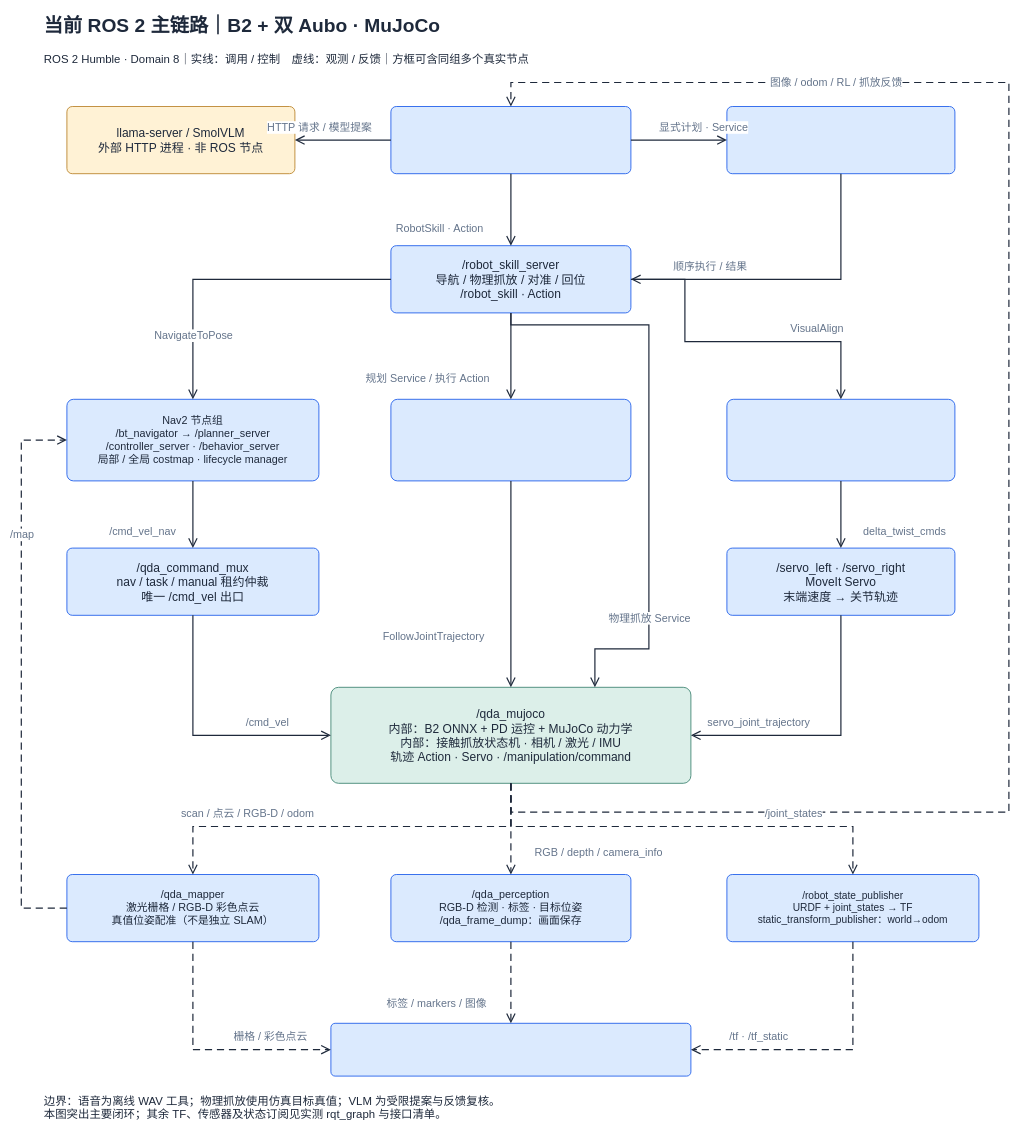
The diagram is 1028 pixels wide and 1144 high, and some of its shapes have lost their labels. The shapes that lost their labels are listed below. From the top down, each one's box as (x1, y1, x2, y2) in pixels, then its label:
(390, 106, 631, 174): /local_brain 输入理解 · 提案审查 · 反馈复核 入口 /brain/request
(726, 106, 955, 174): /mission_coordinator 显式多步骤计划 · 顺序与重试 /mission/request
(390, 399, 631, 481): /move_group OMPL 规划 · 轨迹执行 规划场景 / 碰撞检查
(726, 399, 955, 481): /visual_servo 腕部图像 → ArUco / PnP / IBVS /visual_align · Action
(330, 1023, 691, 1076): /algorithm_view → /rviz2 地图 · 路径 · 关节 · 识别 · 运控 / 任务 / 决策状态
